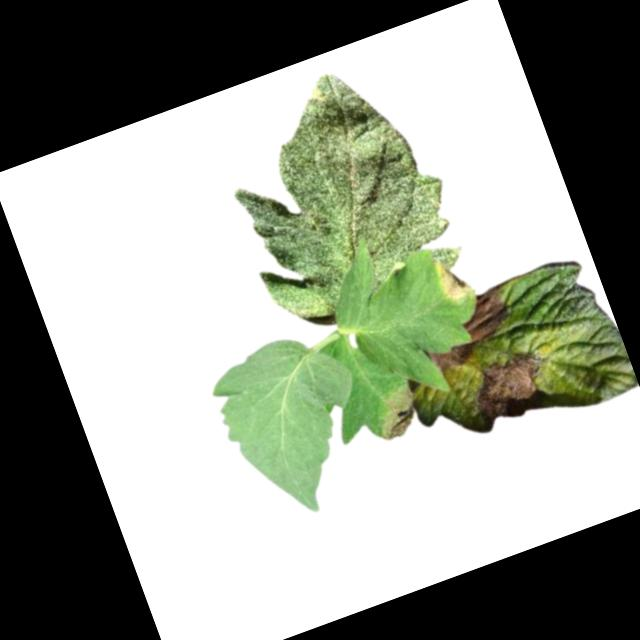Late_blight: (466, 348, 556, 424), (453, 283, 518, 345), (367, 380, 425, 444), (432, 251, 477, 306), (426, 334, 481, 378)
